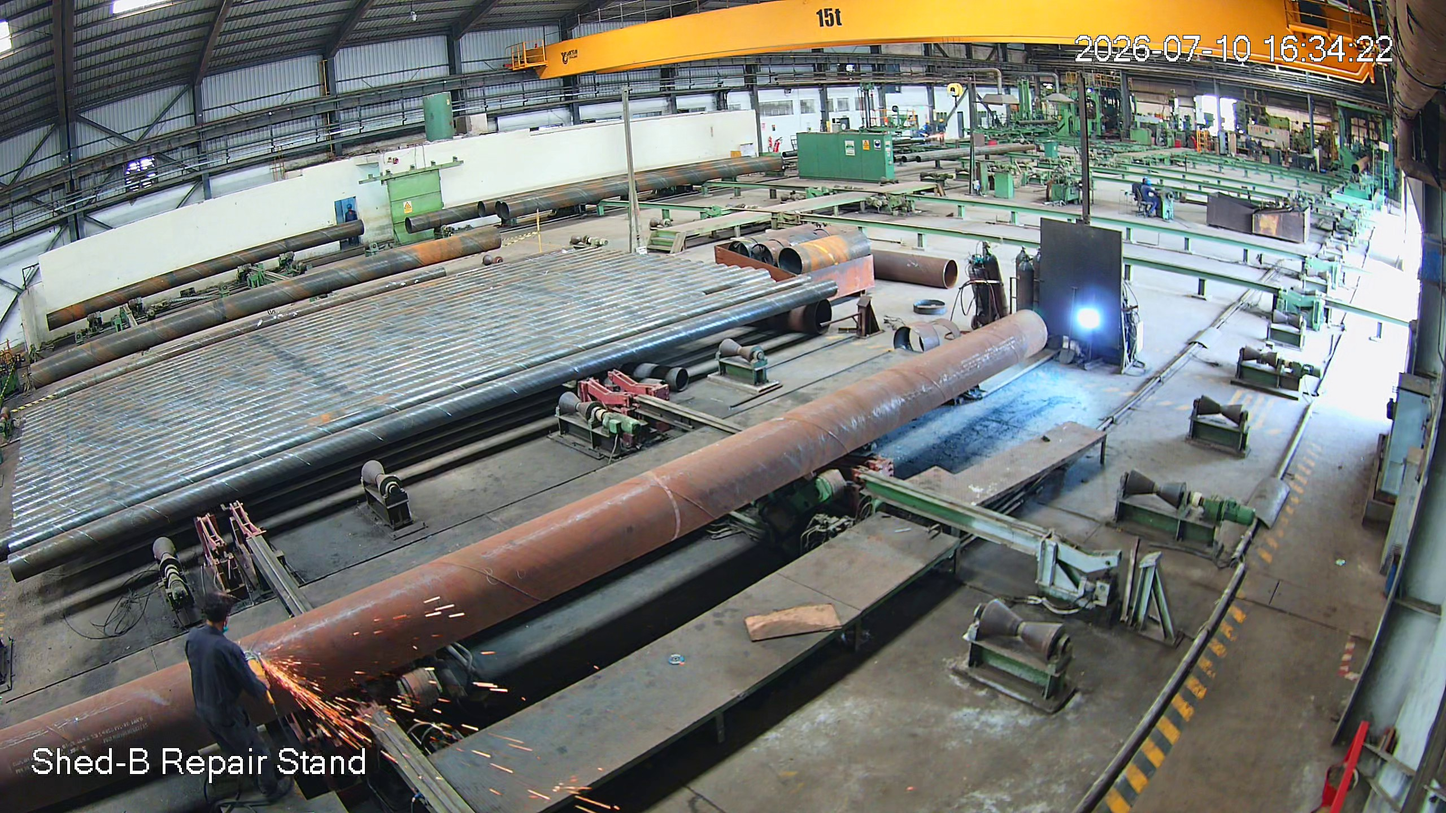Person: (169, 585, 299, 805)
